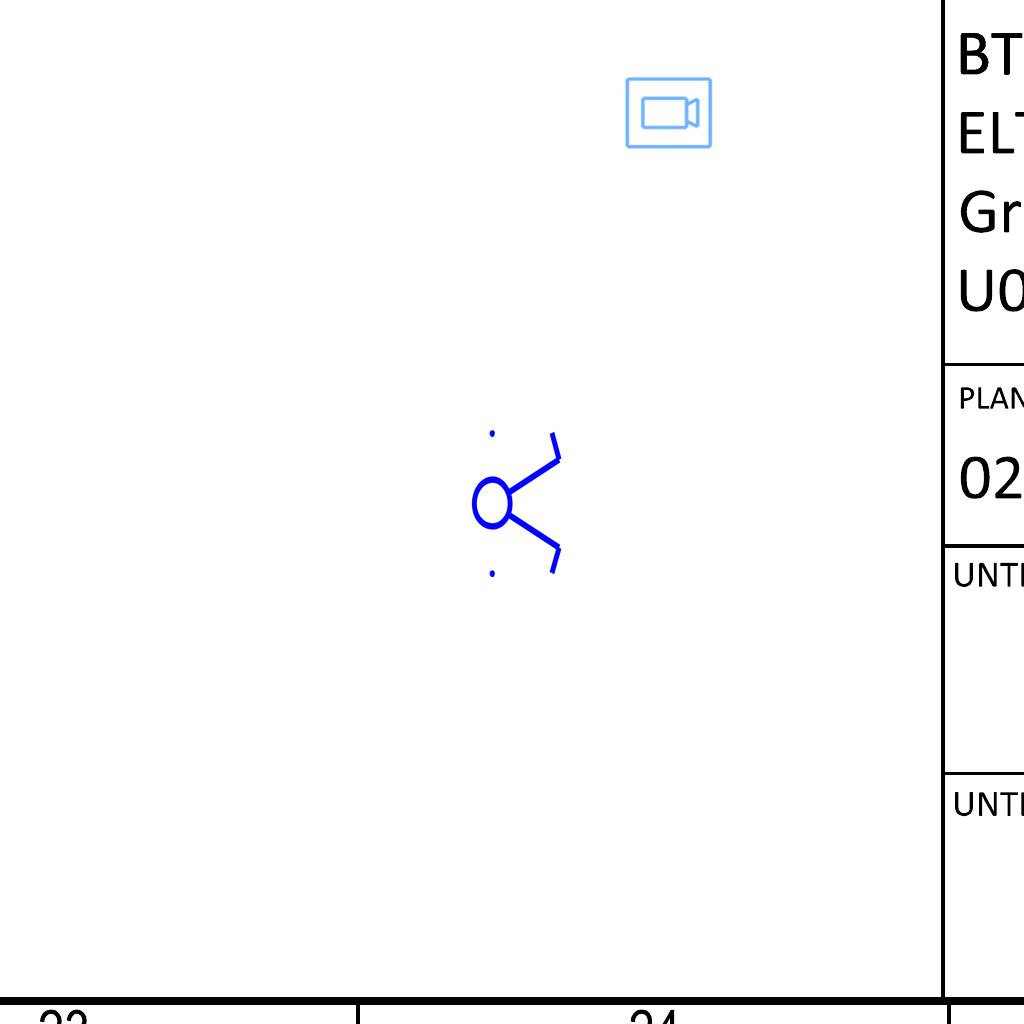KFO_Kamera_mit_Festobjektiv: (623, 75, 714, 152)
Serienschalter: (470, 418, 566, 586)
